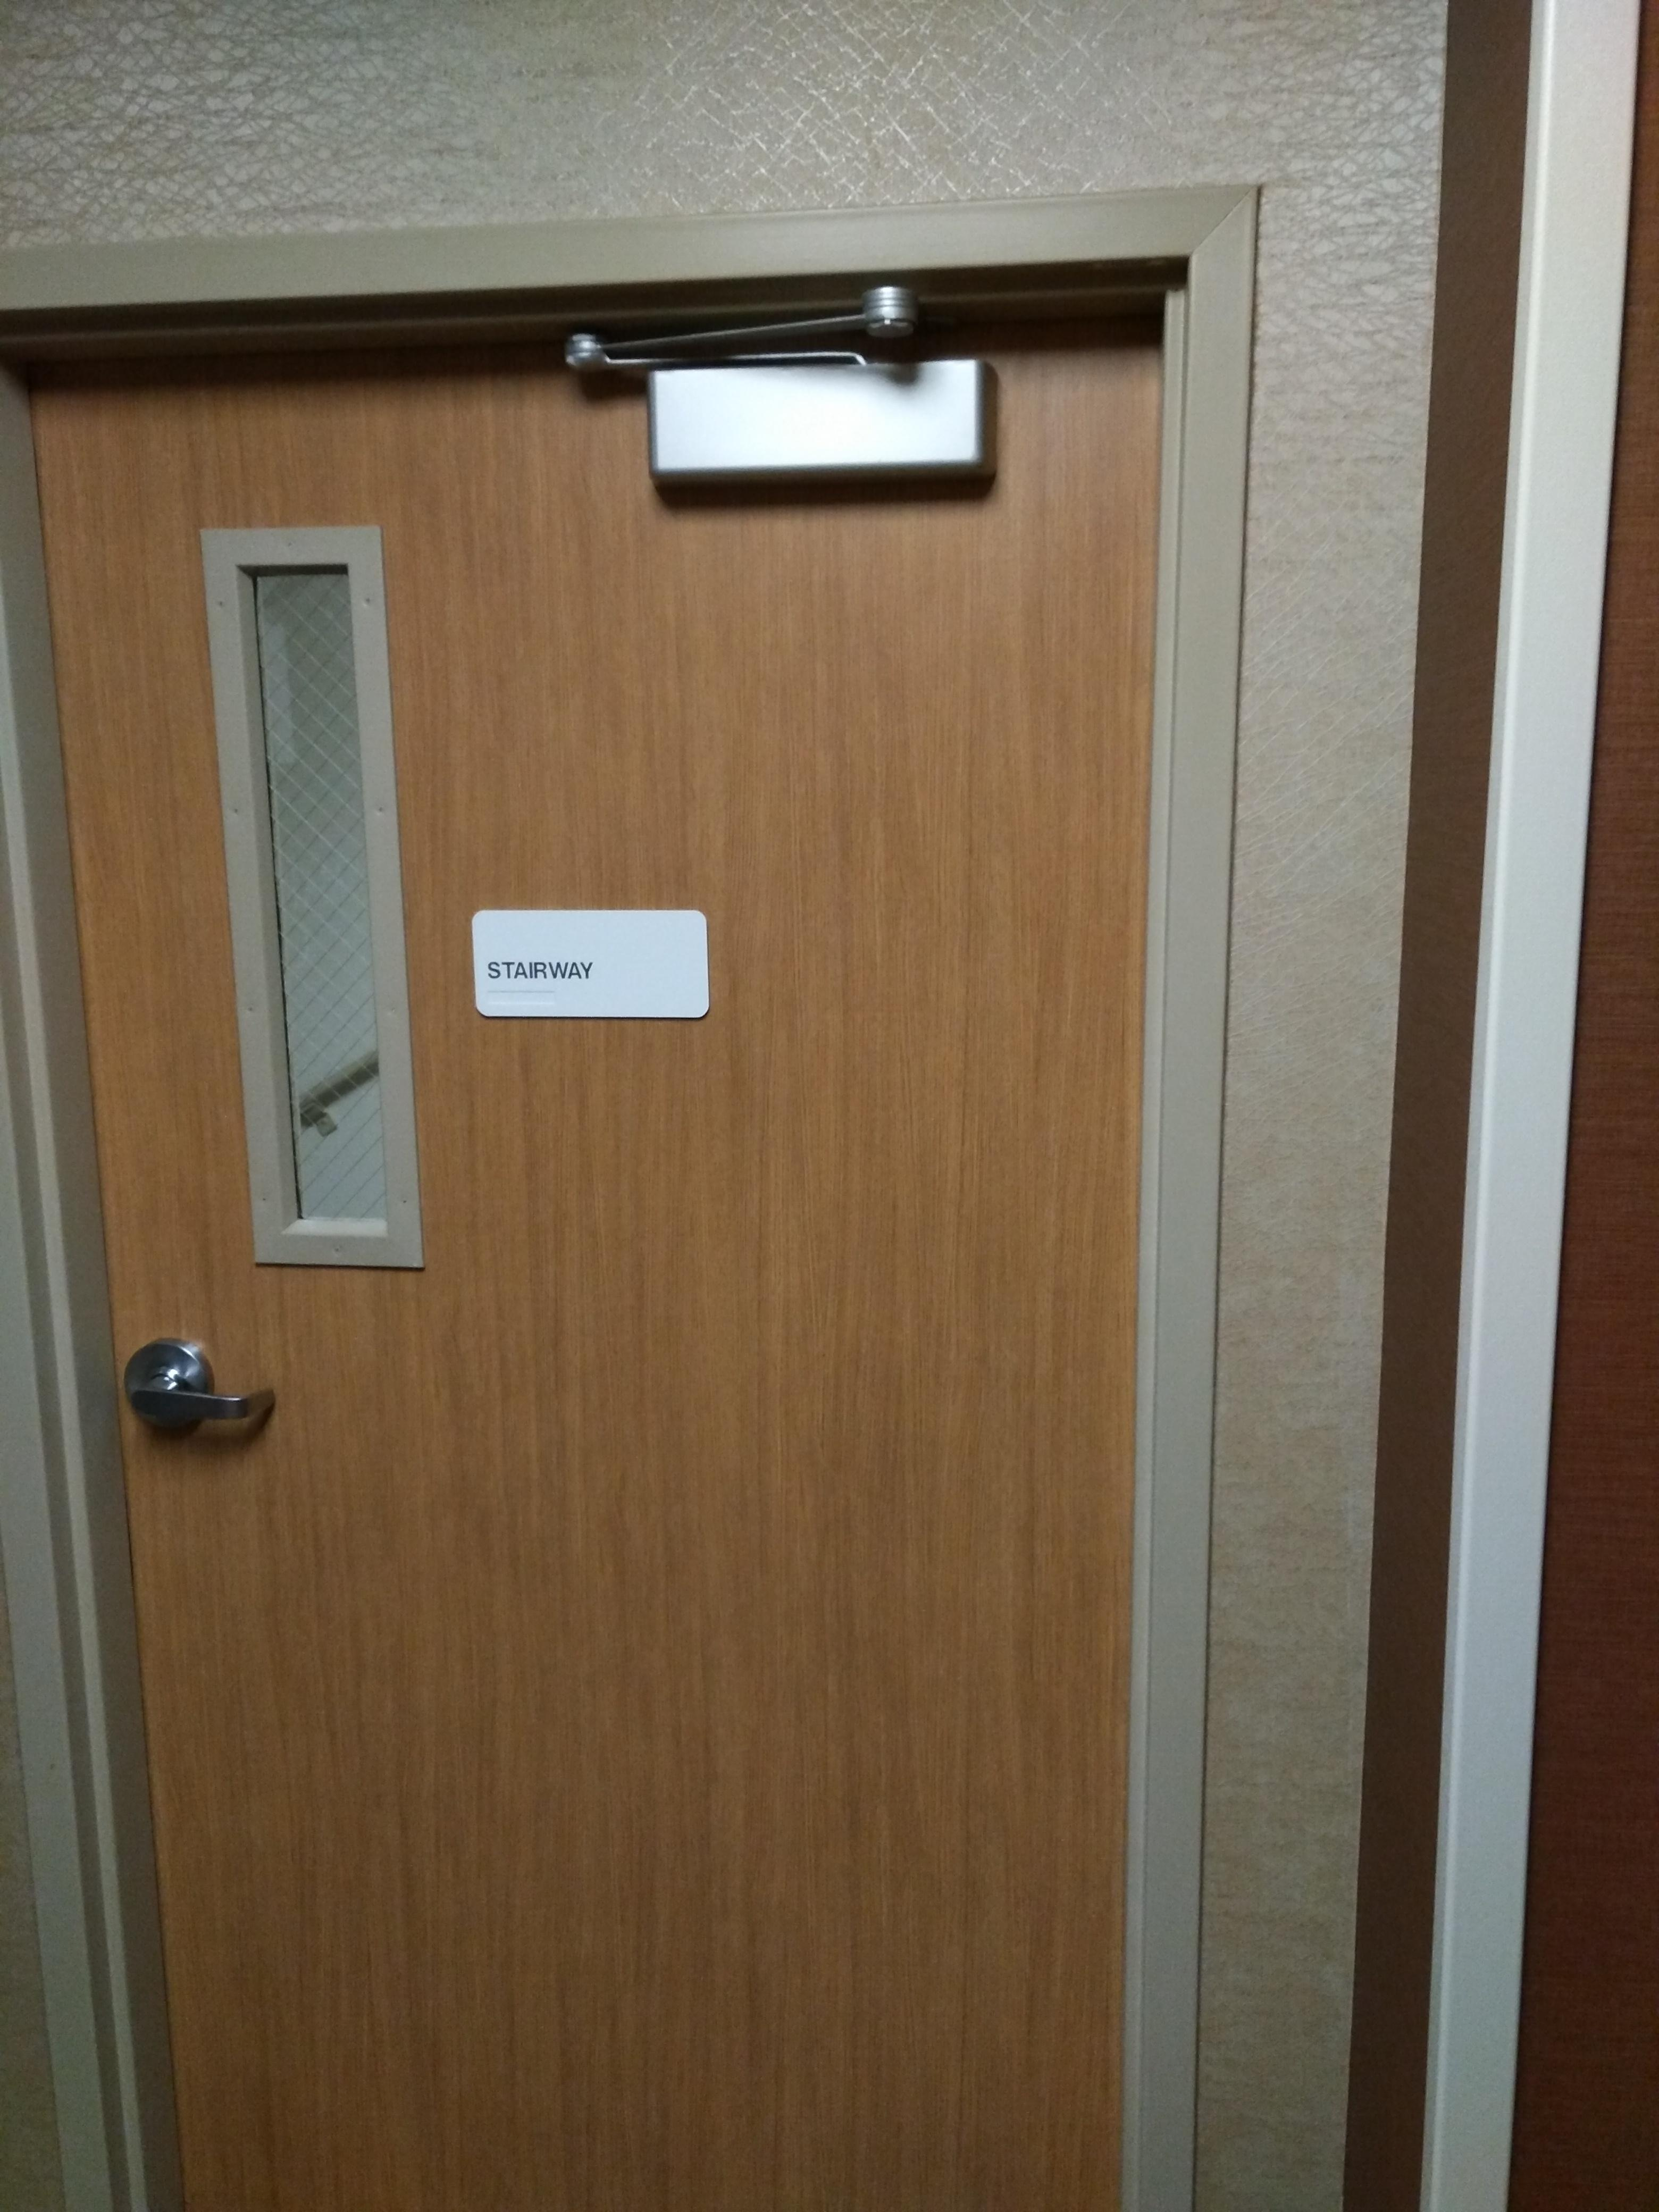door: (3, 270, 1161, 2200)
